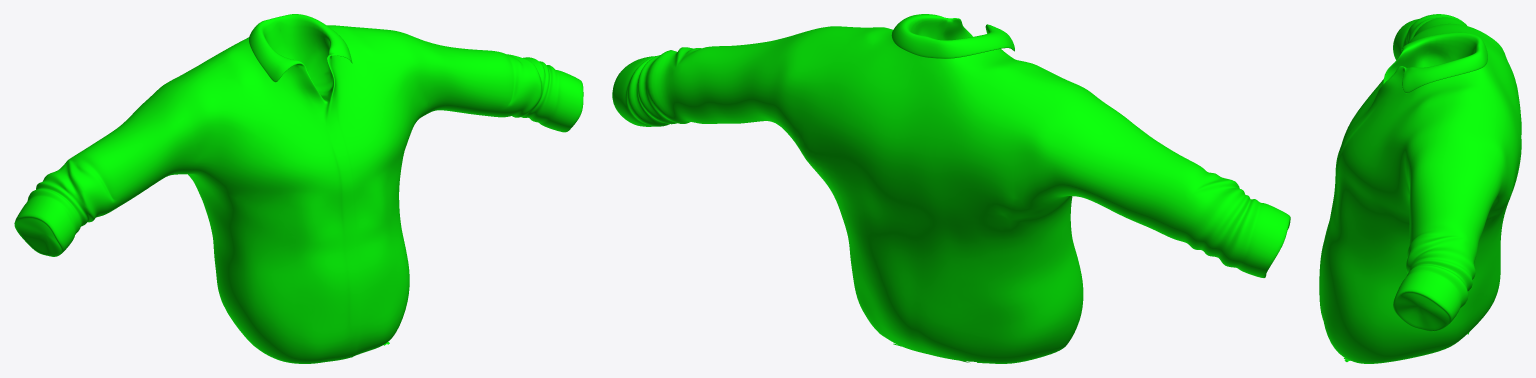
Rendered from casual 3.glb.
3 views of the same model, side by side, from view 1: azimuth 30°, elevation 25°; view 2: azimuth 150°, elevation 25°; view 3: azimuth 270°, elevation 25° (orthographic). The views are drawn at different scales.
Visible parts, largest first — view 1: imagetostl_mesh0; view 2: imagetostl_mesh0; view 3: imagetostl_mesh0.
Part boxes in pixels (left/top/right/bottom): imagetostl_mesh0: left=14, top=14, right=583, bottom=363; imagetostl_mesh0: left=612, top=14, right=1290, bottom=363; imagetostl_mesh0: left=1319, top=14, right=1521, bottom=363.
Bounding box in the file's own units: 11.63 × 5.78 × 3.58.
